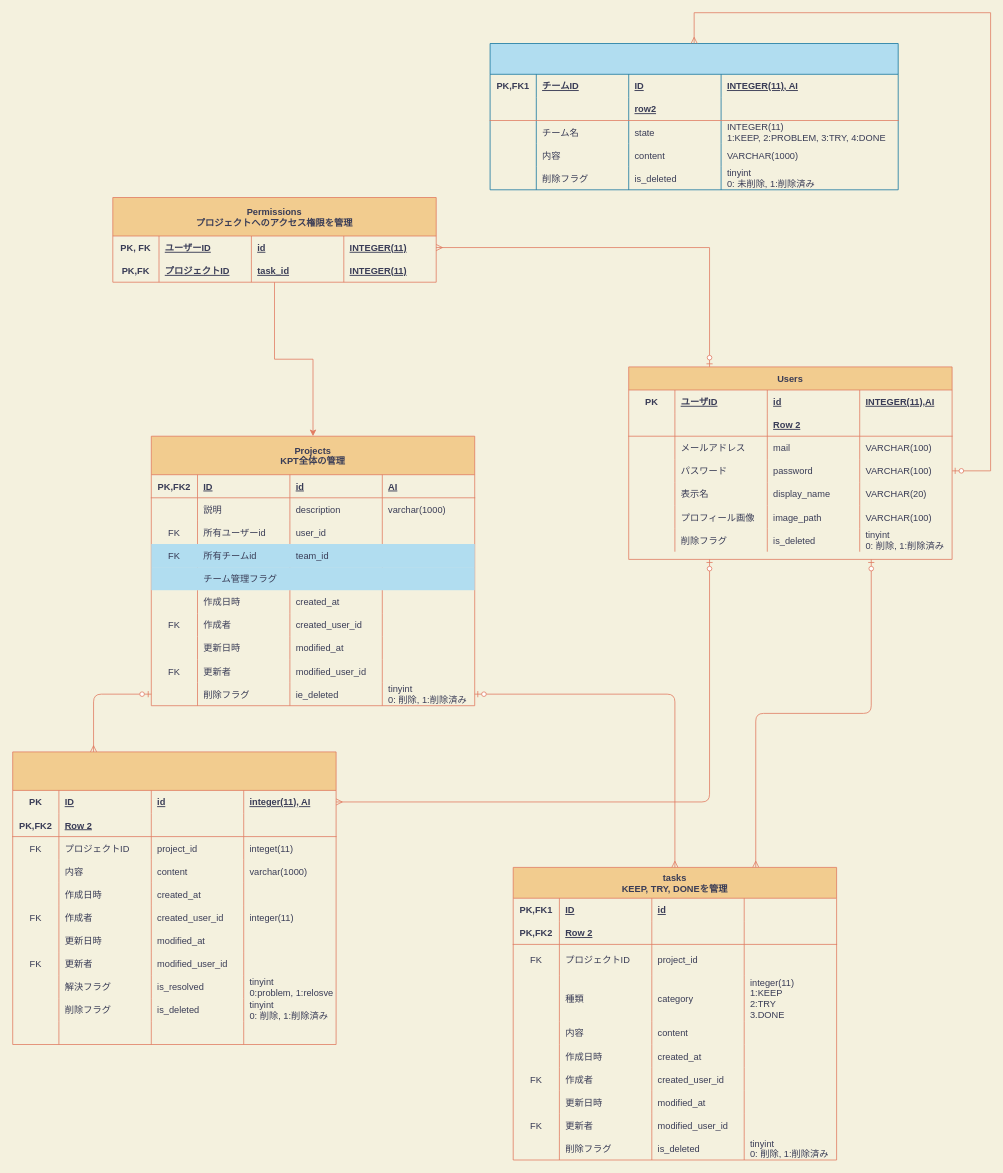
The diagram is 1003 pixels wide and 1173 high, and some of its shapes have lost their labels. Each missing label, with the box of its shape:
problems PROBLEMを管理: (12, 751, 336, 1045)
teams 複数人でプロジェクトを共有: (489, 43, 898, 190)
